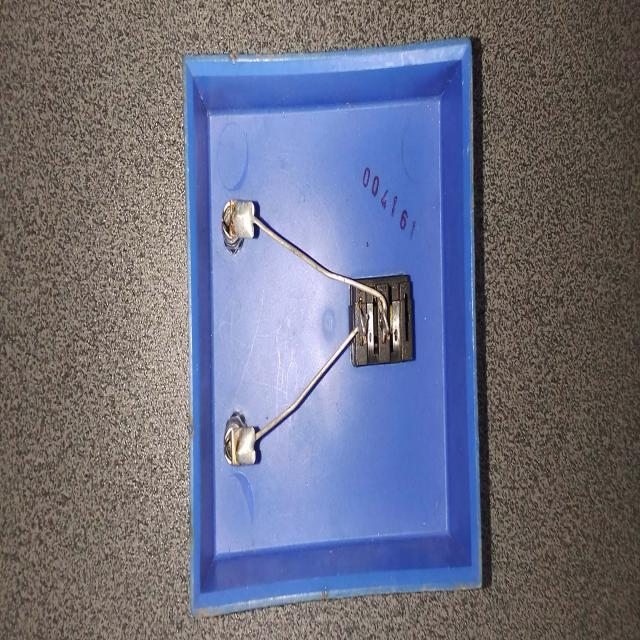ON-OFF Switch: (170, 25, 508, 610)
